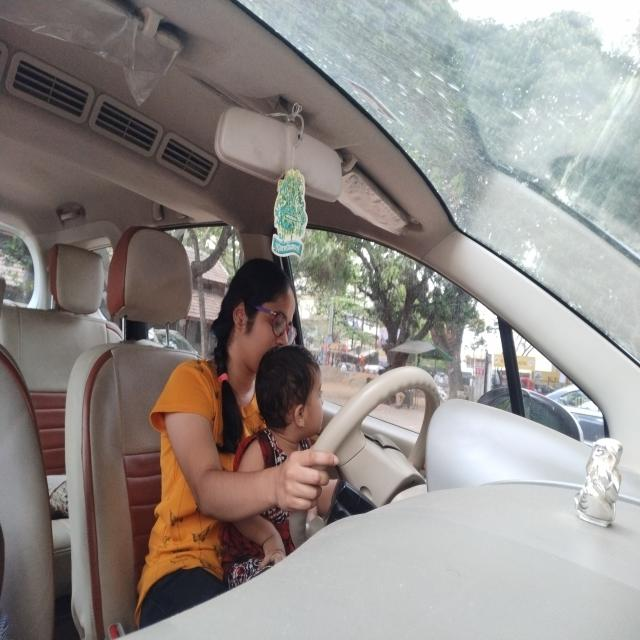child: (205, 246, 302, 376), (257, 340, 326, 444)
